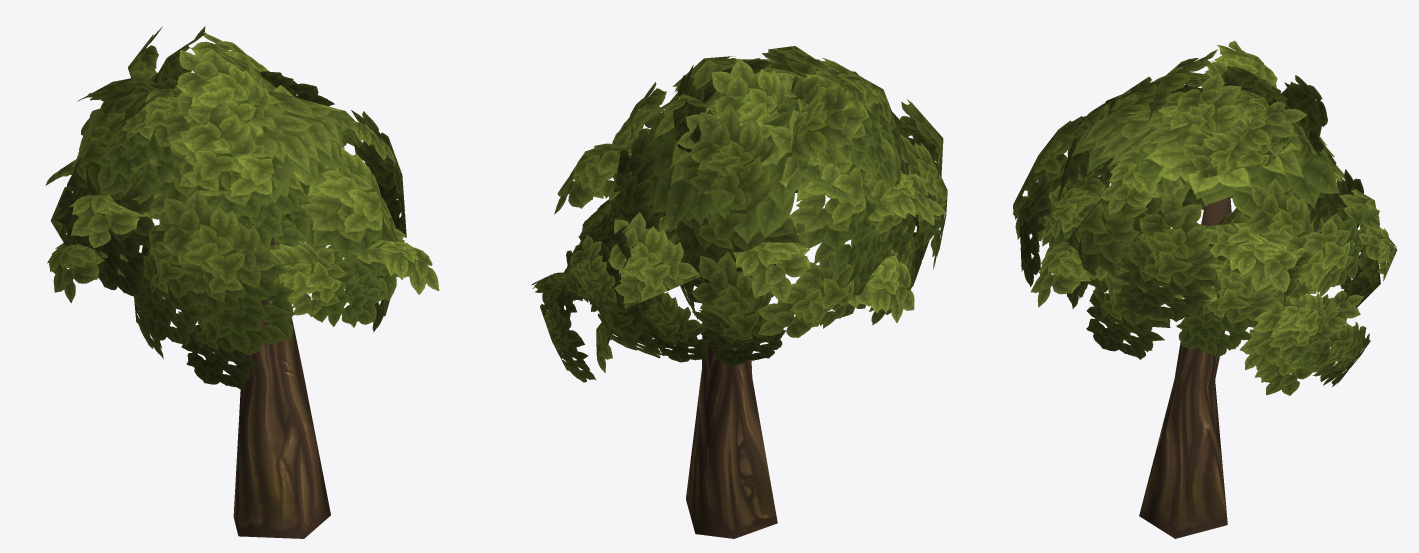
Rendered from tree_leafy_01.fbx.
The picture shows the model from 3 angles, left to right: view 1: azimuth 30°, elevation 25°; view 2: azimuth 150°, elevation 25°; view 3: azimuth 270°, elevation 25°; orthographic projection. The views are drawn at different scales.
Visible parts, largest first — view 1: tree_leafy_01; view 2: tree_leafy_01; view 3: tree_leafy_01.
Boxes of the visible parts, left/top/right/bottom form: tree_leafy_01: left=45, top=26, right=439, bottom=538; tree_leafy_01: left=531, top=46, right=947, bottom=538; tree_leafy_01: left=1013, top=40, right=1397, bottom=538.
Bounding box in the file's own units: 629 × 777 × 637.
